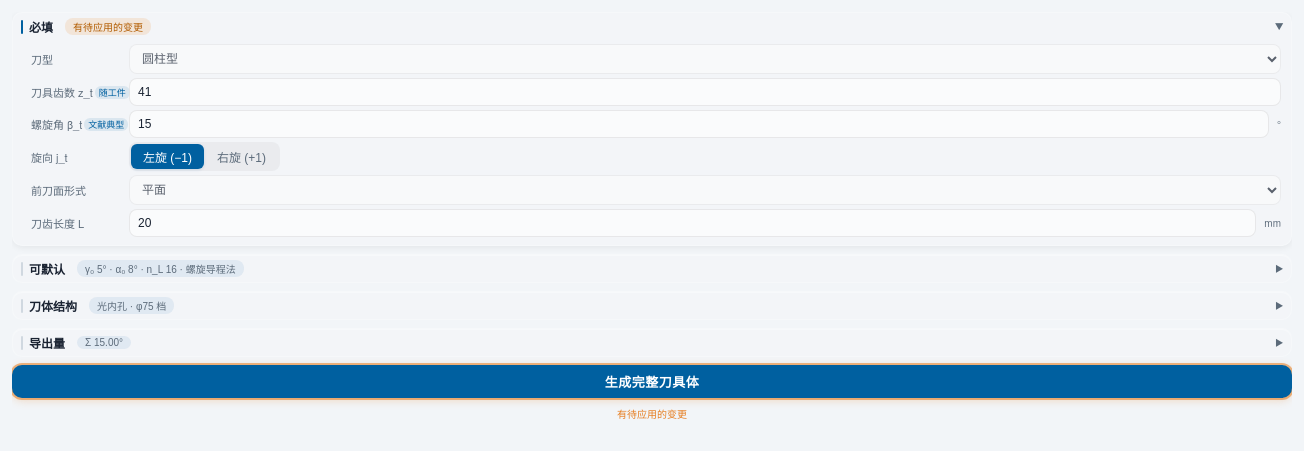
ToolSolidPanel — 校验联动（PRD §5.2） › z_t 越出推荐区间：blur 后黄警（含区间数字），不阻断生成按钮
Replace the text in the number field next to "随工件" with "70" at (705, 92), box [129,78,1281,106]
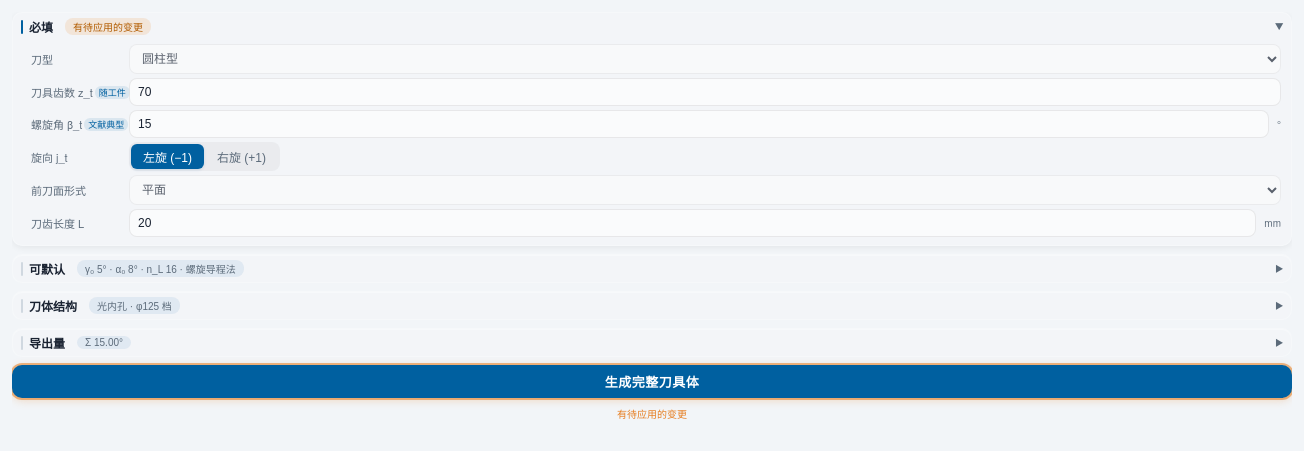
Leave the number field next to "随工件", box [129,78,1281,106]
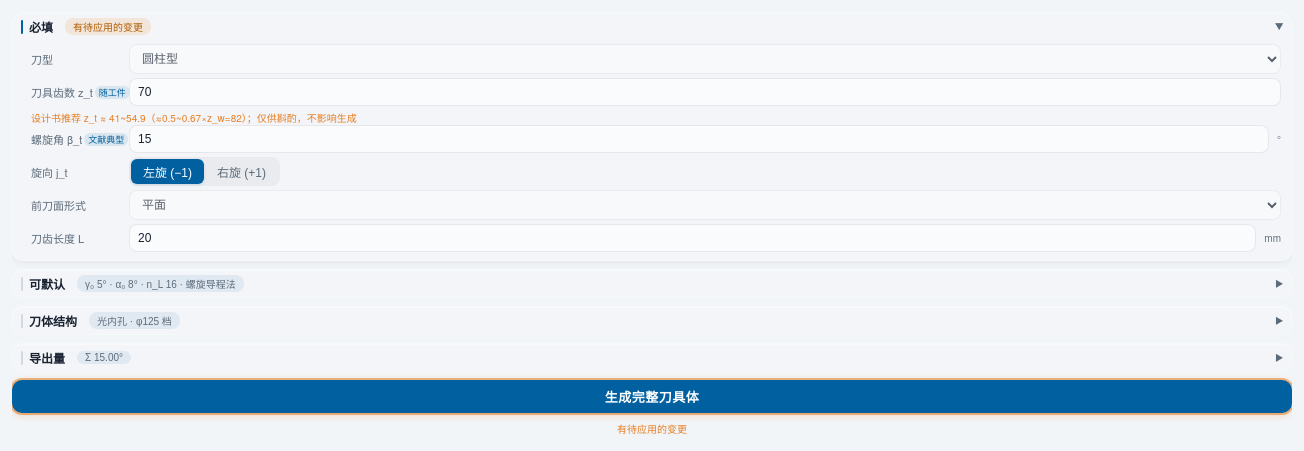
Expected: the button with test id "generate-tool-ring" is enabled, [12,380,1292,413]
Expected: the text with class "warn" shows "54.9", [31,111,357,125]
